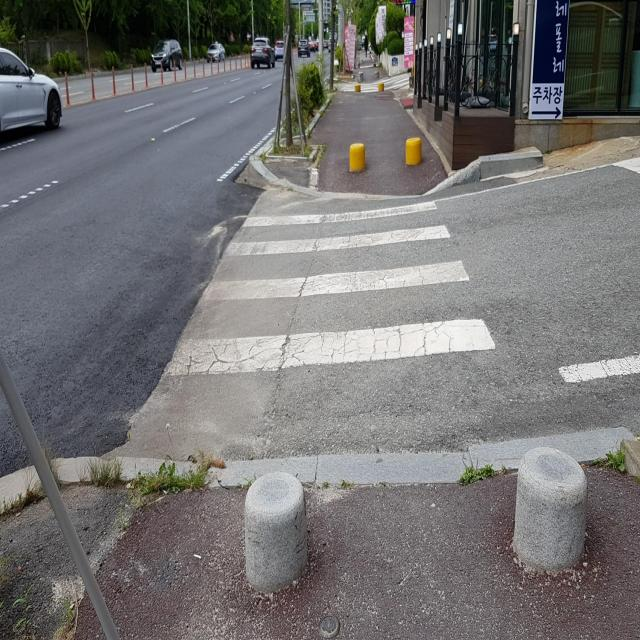횡단보도: (162, 198, 496, 379)
